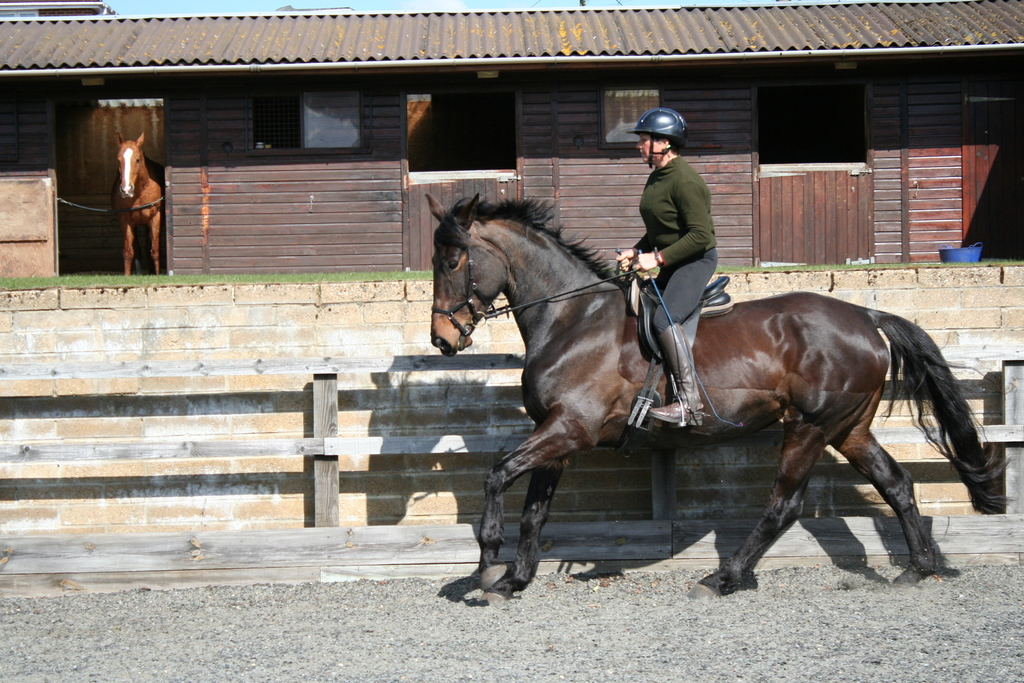horse: (110, 130, 164, 272)
